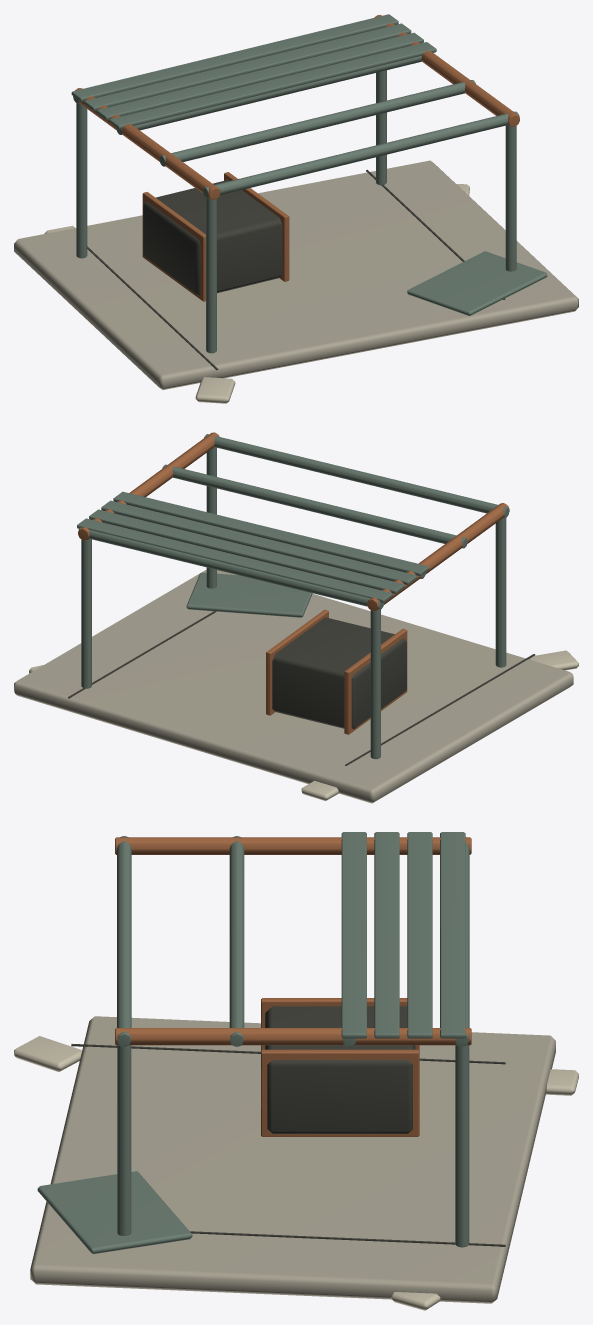
File: AbandonedFreightBay.glb
3 renders of one model, top to bottom at view 1: azimuth 30°, elevation 25°; view 2: azimuth 150°, elevation 25°; view 3: azimuth 270°, elevation 25°, orthographic. The views are drawn at different scales.
Parts seen in each view (by area): view 1: Sand buried service pad.001, Salvaged machine crate, Collapsed roof sheet, Remaining corrugated roof, Remaining corrugated roof.003, Remaining corrugated roof.001, Remaining corrugated roof.002, Exposed canopy rafter, Exposed canopy rafter.001, Exposed canopy rafter.002, Loading canopy post.001, Canopy roof bearer (+7 smaller); view 2: Sand buried service pad.001, Salvaged machine crate, Collapsed roof sheet, Remaining corrugated roof.002, Remaining corrugated roof.001, Remaining corrugated roof, Remaining corrugated roof.003, Exposed canopy rafter, Exposed canopy rafter.001, Exposed canopy rafter.003, Loading canopy post, Canopy roof bearer (+9 smaller); view 3: Sand buried service pad.001, Salvaged machine crate, Collapsed roof sheet, Remaining corrugated roof, Remaining corrugated roof.002, Remaining corrugated roof.001, Remaining corrugated roof.003, Canopy roof bearer.001, Canopy roof bearer, Crate steel strap.001, Exposed canopy rafter.001, Loading canopy post.003 (+9 smaller).
Part boxes in pixels (bbox=[...]): Sand buried service pad.001: bbox=[14, 160, 578, 389]; Salvaged machine crate: bbox=[143, 180, 282, 295]; Collapsed roof sheet: bbox=[407, 251, 547, 316]; Remaining corrugated roof: bbox=[109, 42, 436, 129]; Remaining corrugated roof.003: bbox=[71, 14, 398, 101]; Remaining corrugated roof.001: bbox=[97, 32, 423, 120]; Remaining corrugated roof.002: bbox=[84, 23, 411, 110]; Exposed canopy rafter: bbox=[203, 111, 519, 198]; Exposed canopy rafter.001: bbox=[159, 80, 475, 166]; Exposed canopy rafter.002: bbox=[116, 56, 421, 134]; Loading canopy post.001: bbox=[76, 103, 87, 258]; Canopy roof bearer: bbox=[75, 88, 220, 199]; Sand buried service pad.001: bbox=[14, 569, 573, 803]; Salvaged machine crate: bbox=[272, 617, 406, 729]; Collapsed roof sheet: bbox=[186, 572, 312, 617]; Remaining corrugated roof.002: bbox=[89, 509, 404, 593]; Remaining corrugated roof.001: bbox=[101, 500, 416, 584]; Remaining corrugated roof: bbox=[113, 491, 428, 576]; Remaining corrugated roof.003: bbox=[77, 518, 392, 602]; Exposed canopy rafter: bbox=[204, 434, 509, 517]; Exposed canopy rafter.001: bbox=[162, 464, 467, 548]; Exposed canopy rafter.003: bbox=[78, 527, 384, 609]; Loading canopy post: bbox=[495, 517, 506, 667]; Canopy roof bearer: bbox=[367, 503, 509, 611]; Sand buried service pad.001: bbox=[30, 1016, 555, 1303]; Salvaged machine crate: bbox=[265, 1006, 415, 1133]; Collapsed roof sheet: bbox=[37, 1171, 192, 1254]; Remaining corrugated roof: bbox=[341, 832, 366, 1038]; Remaining corrugated roof.002: bbox=[407, 832, 432, 1038]; Remaining corrugated roof.001: bbox=[374, 832, 399, 1038]; Remaining corrugated roof.003: bbox=[440, 832, 465, 1038]; Canopy roof bearer.001: bbox=[115, 1028, 471, 1045]; Canopy roof bearer: bbox=[115, 837, 471, 854]; Crate steel strap.001: bbox=[261, 1049, 419, 1136]; Exposed canopy rafter.001: bbox=[229, 836, 244, 1046]; Loading canopy post.003: bbox=[455, 1045, 469, 1247].
Bounding box in the file's own units: 7.01 × 2.79 × 6.02.
